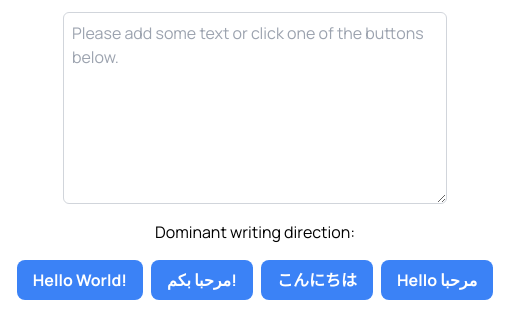
Test case: JTextAnalyzer component › updates textarea value when button is clicked
Click the button "Hello World!".
click(80, 280)  # box 17,260 -> 143,300
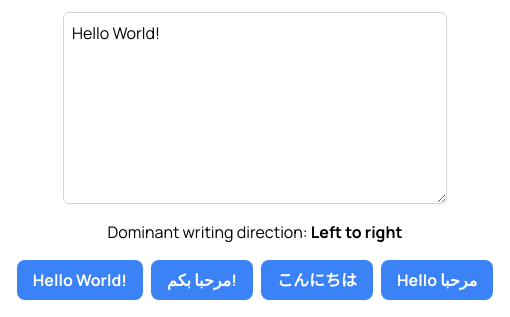
Now the text box with placeholder "Please add some text or click one of the buttons below." holds "Hello World!", box 63,12 -> 447,204
